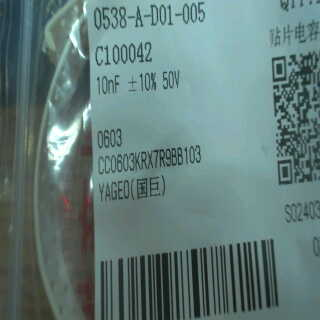10nF: (94, 71, 125, 97)
